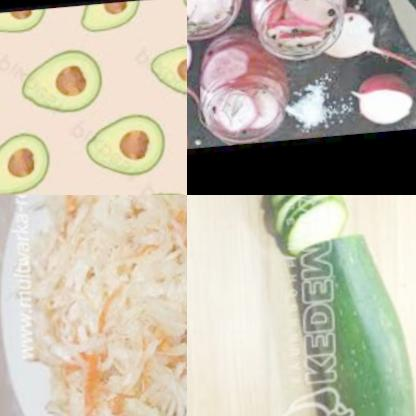avocado: (2, 50, 108, 127), (70, 121, 176, 191), (125, 37, 187, 110), (0, 133, 51, 195), (61, 4, 144, 39), (157, 0, 187, 46), (0, 11, 42, 39)
cabbage: (28, 195, 187, 416)
carrot: (73, 349, 98, 413), (176, 214, 187, 255)
rediska: (318, 10, 416, 95), (205, 42, 283, 136), (253, 0, 338, 54), (344, 74, 416, 136), (187, 0, 234, 34)
vegetable marrow: (287, 234, 416, 416), (252, 195, 360, 253)
